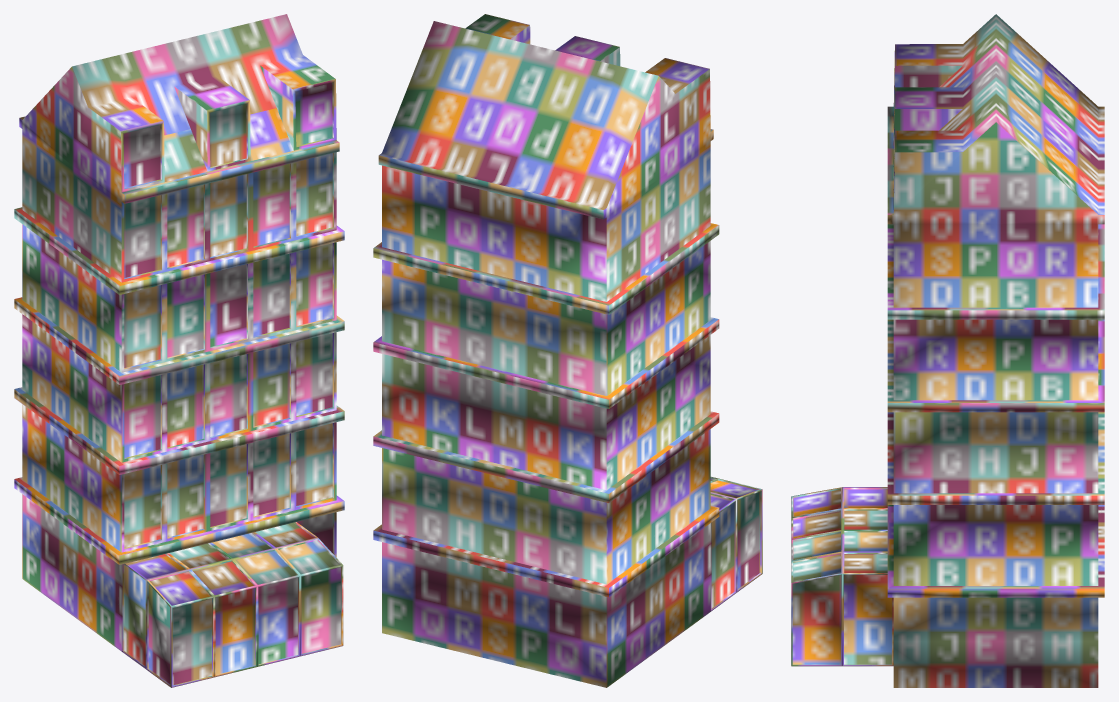
Rendered from building_side_03.obj.
The picture shows the model from 3 angles, left to right: view 1: azimuth 30°, elevation 25°; view 2: azimuth 150°, elevation 25°; view 3: azimuth 270°, elevation 25°; orthographic projection. The views are drawn at different scales.
Parts seen in each view (by area): view 1: Cube4; view 2: Cube4; view 3: Cube4.
Boxes of the visible parts, bbox=[...] form: Cube4: bbox=[14, 14, 344, 687]; Cube4: bbox=[373, 14, 762, 687]; Cube4: bbox=[791, 14, 1104, 687].
Bounding box in the file's own units: 5.24 × 12.2 × 6.12.
1 material, 1 textured.
